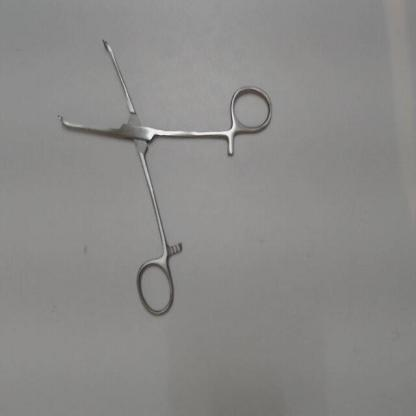Allis Tissue Forceps: (47, 22, 283, 324)
